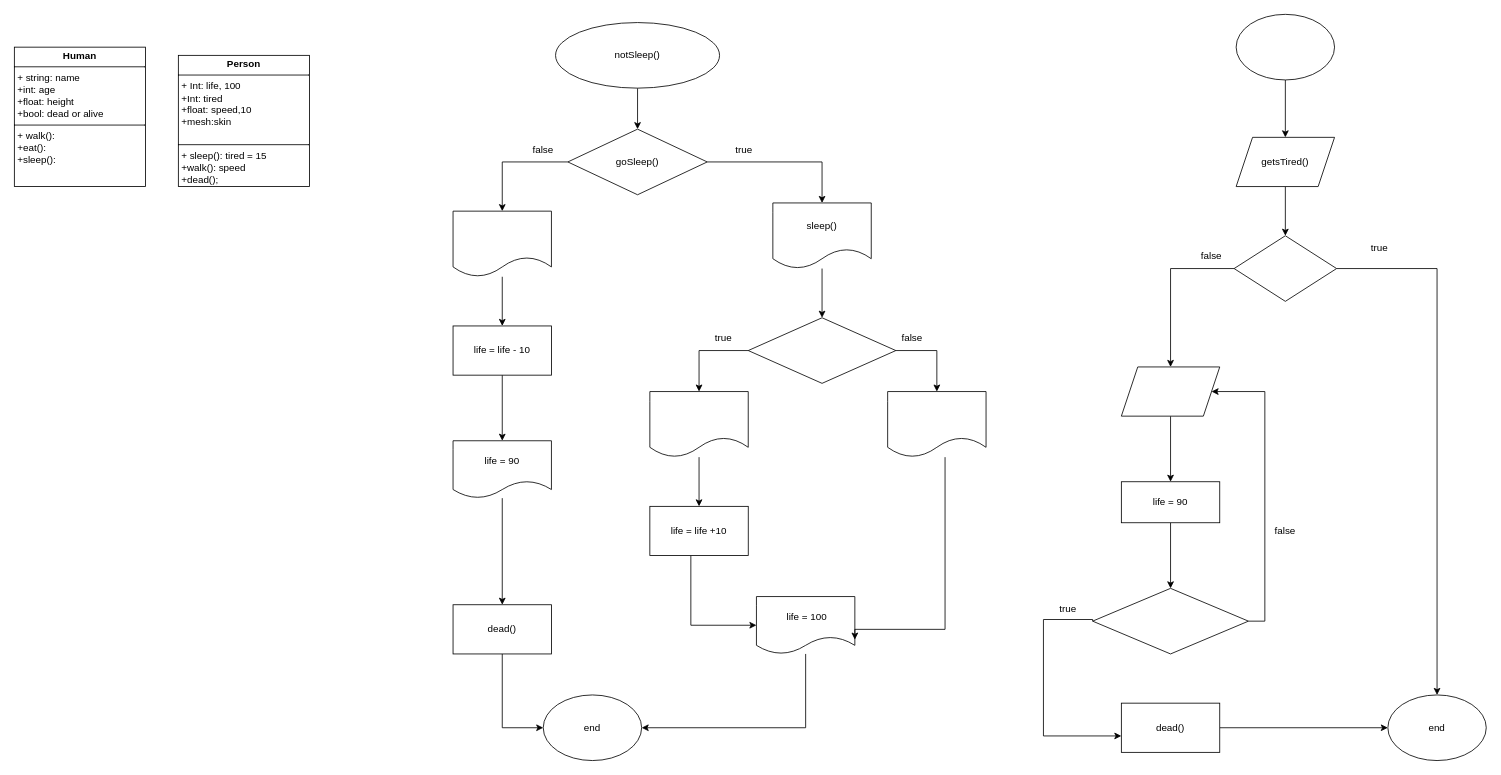
Image size: 1501x775. Some labels were removed from this diagram. Here are the shapes that lost their labels. From the top down, the centre of each, then its label:
the point at 1285,47: walks()
the point at 501,243: not sleep()
the point at 1285,268: stopWalking()
the point at 821,350: isTired()
the point at 1170,391: life = life -10
the point at 698,424: tired()
the point at 936,424: noTired()
the point at 1170,621: getsDead()
